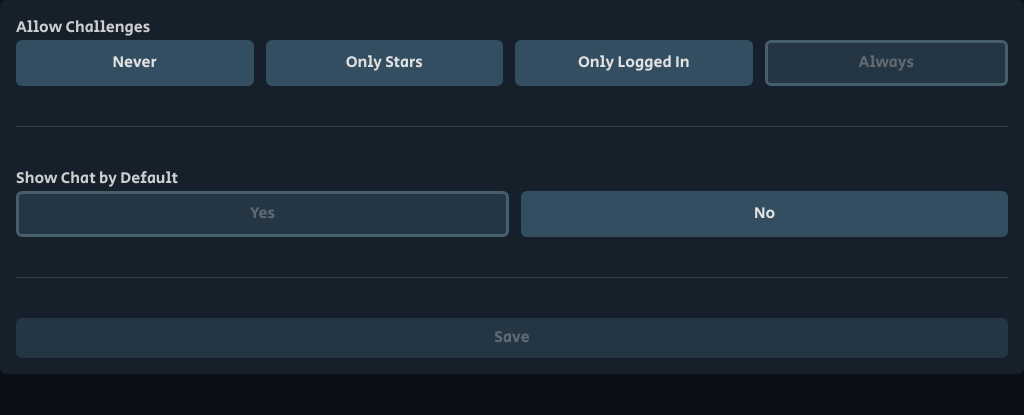
it: PrivacyForm › should display status message on API failure
Step 1. Click the button "Only Stars" → (384, 63), box [266,40,503,86]
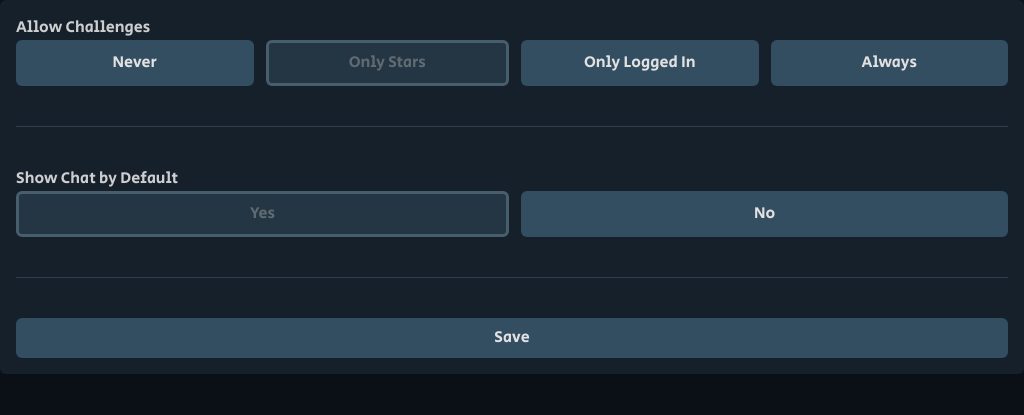
Step 2. Click the button with test id "submitFormButton" → (512, 338), box [16,318,1008,358]
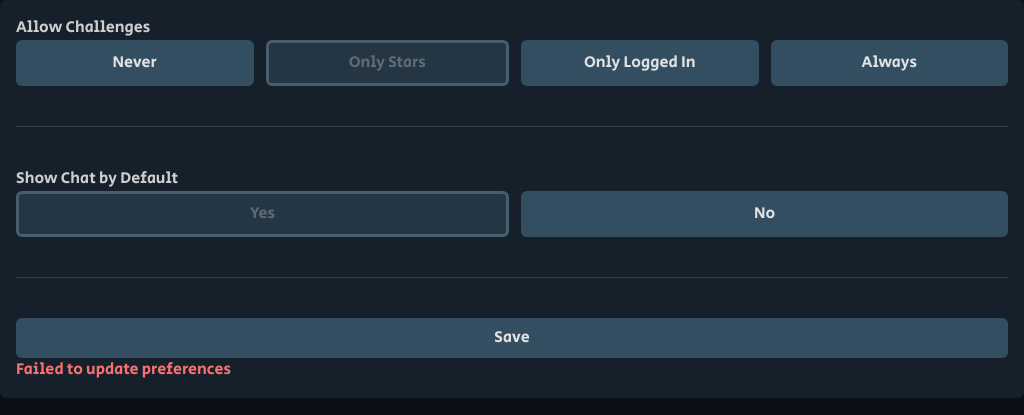
Check: the text "Failed to update preferences" is shown, box [16,358,231,381]
